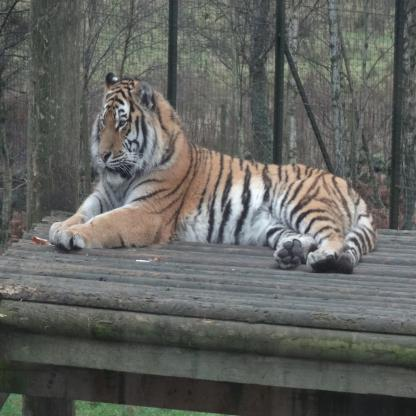tiger: (90, 62, 173, 212)
